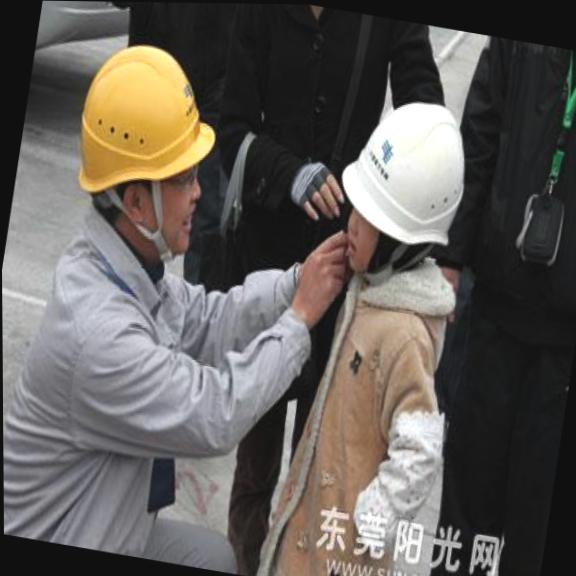no_safety_vest: (3, 208, 279, 573), (280, 265, 486, 576)
